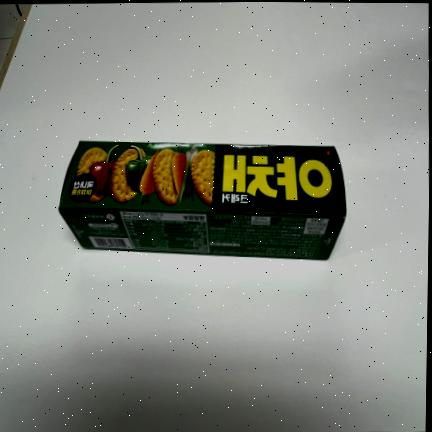cracker_vege: (58, 141, 345, 260)
